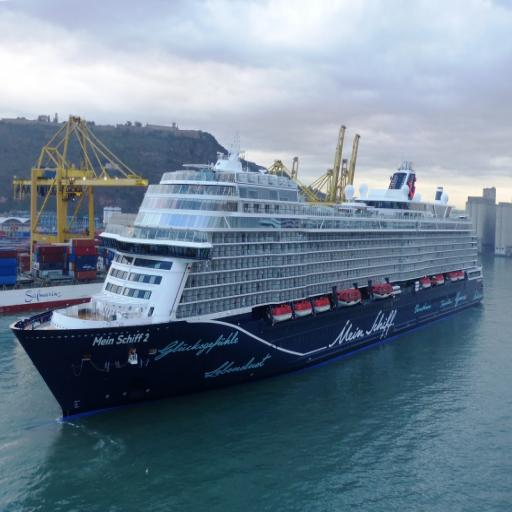cruises: (13, 130, 491, 424)
